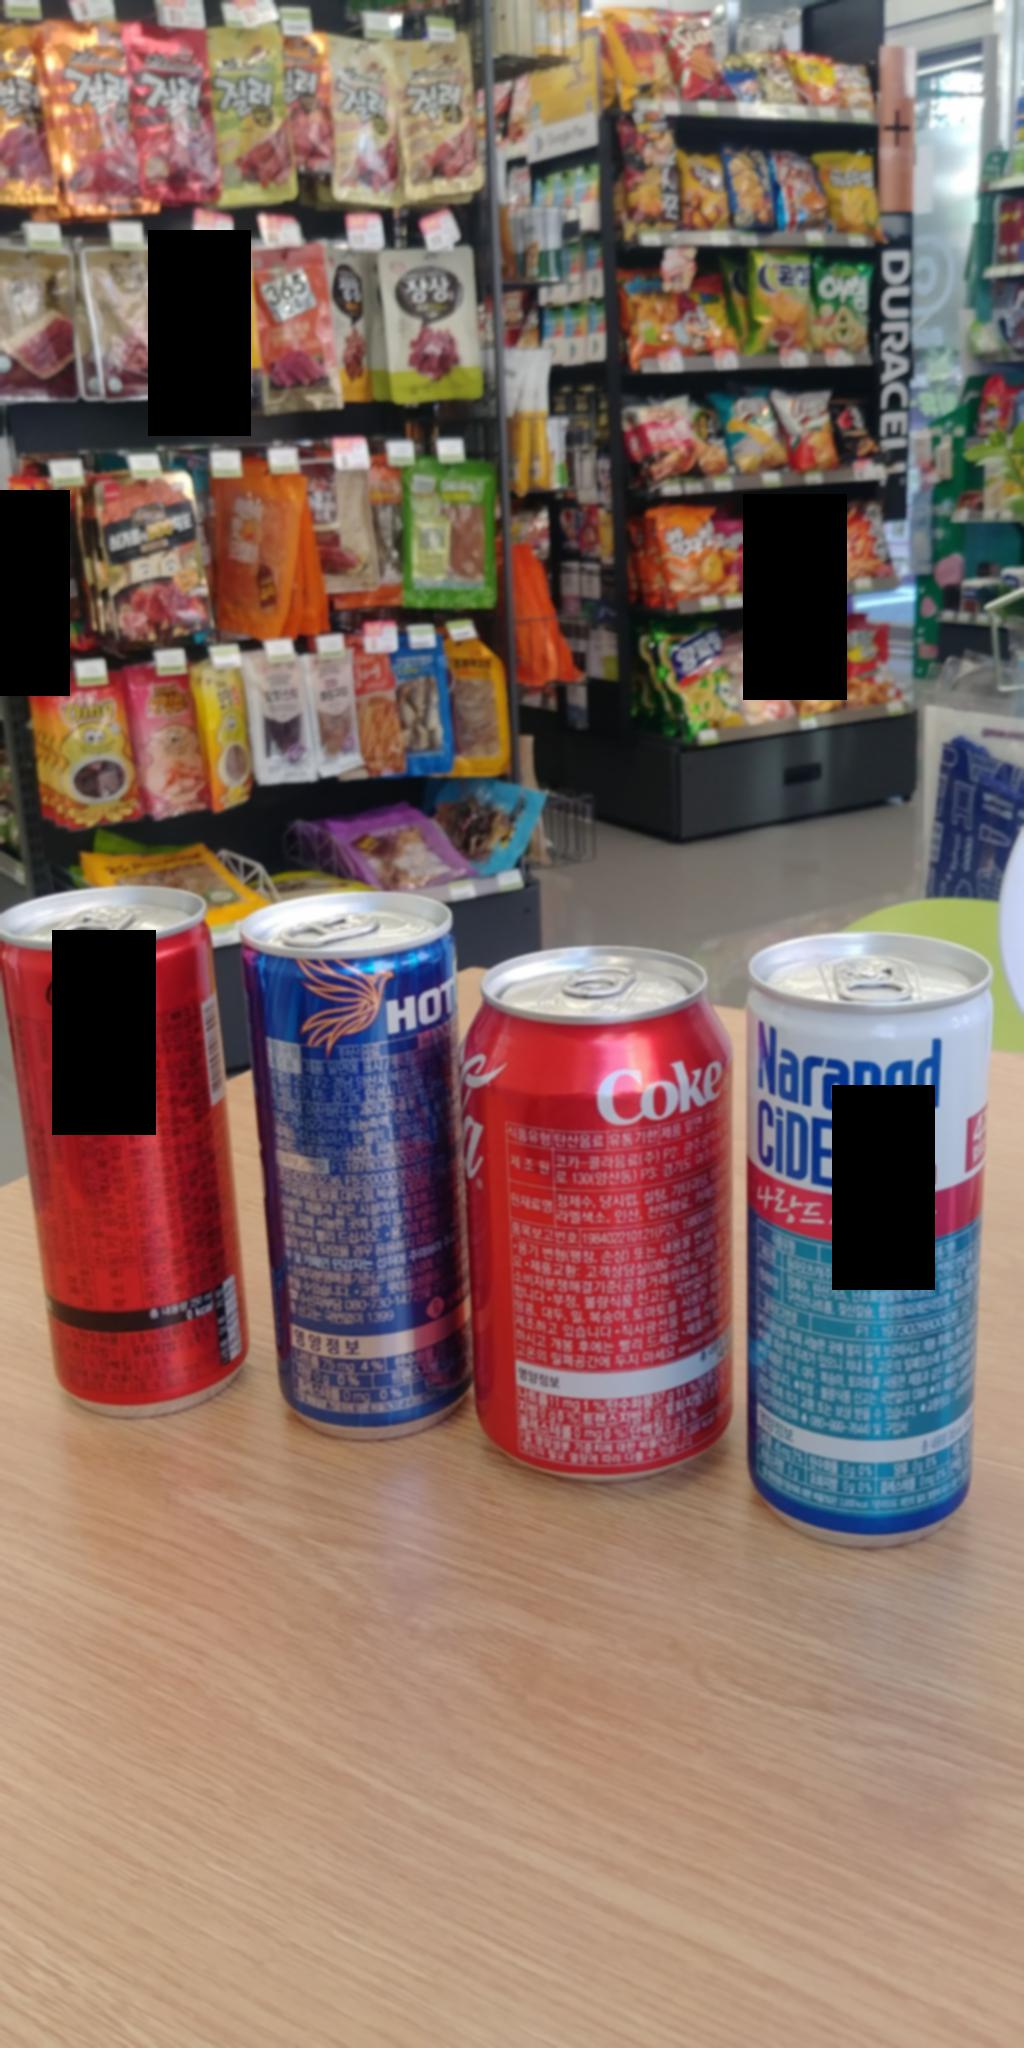cocacola: (465, 950, 728, 1505)
hotsix_org: (223, 887, 487, 1450)
narangdcider: (744, 916, 1023, 1519)
